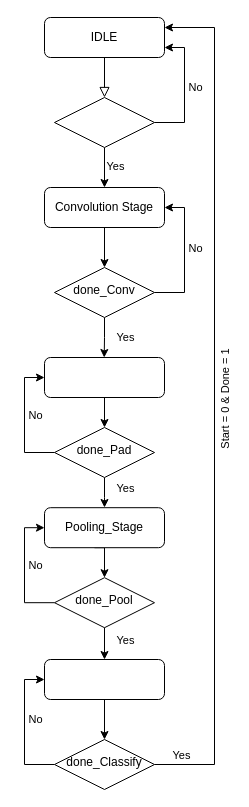
Some shapes in this 249 by 807 pixel diagram are drawn without their labels. The box of each missing label's shape, as (x1, y1, x2, y2) in pixels:
Classification: (44, 658, 164, 700)
Padding_Stage: (44, 356, 164, 398)
Start = 1: (54, 96, 154, 148)
